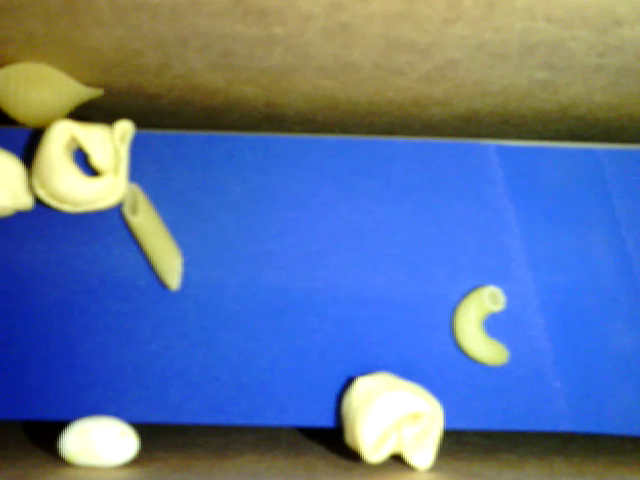elbow: (451, 284, 509, 365)
penne: (120, 182, 184, 290)
shell: (1, 64, 105, 127)
tortellini: (30, 115, 135, 214), (342, 370, 445, 470)
